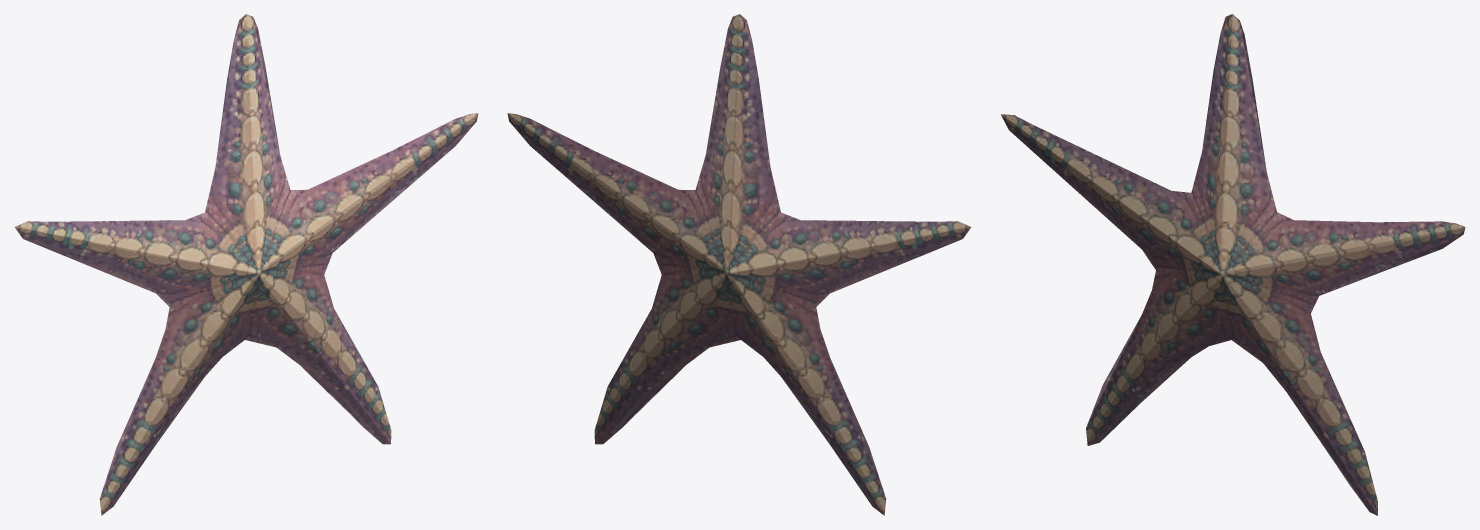
File: star_purple.glb
3 renders of one model, left to right at view 1: azimuth 30°, elevation 25°; view 2: azimuth 150°, elevation 25°; view 3: azimuth 330°, elevation 25°, orthographic.
Parts seen in each view (by area): view 1: purple_star.001; view 2: purple_star.001; view 3: purple_star.001.
Boxes of the visible parts, x1,y1,x2,y2 form: purple_star.001: [14, 14, 478, 515]; purple_star.001: [507, 14, 971, 515]; purple_star.001: [1001, 14, 1465, 515].
Bounding box in the file's own units: 0.1962 × 0.1886 × 0.0172.
Materials: 1 (1 with a texture image).
